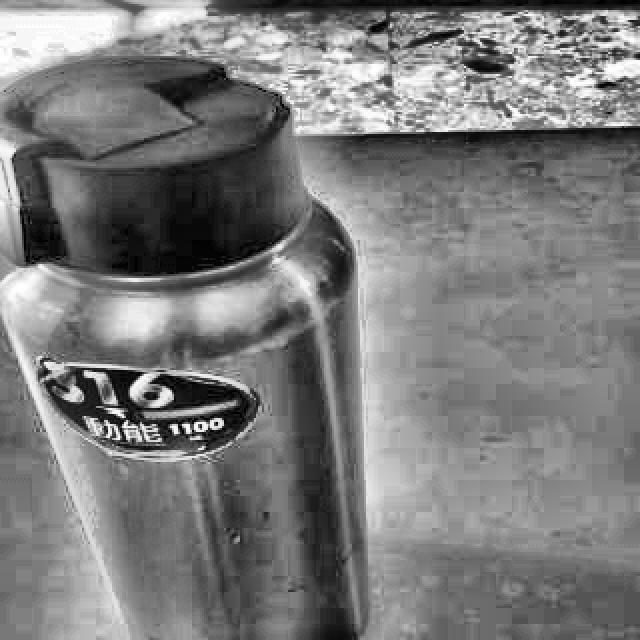bottle: (0, 60, 374, 640)
